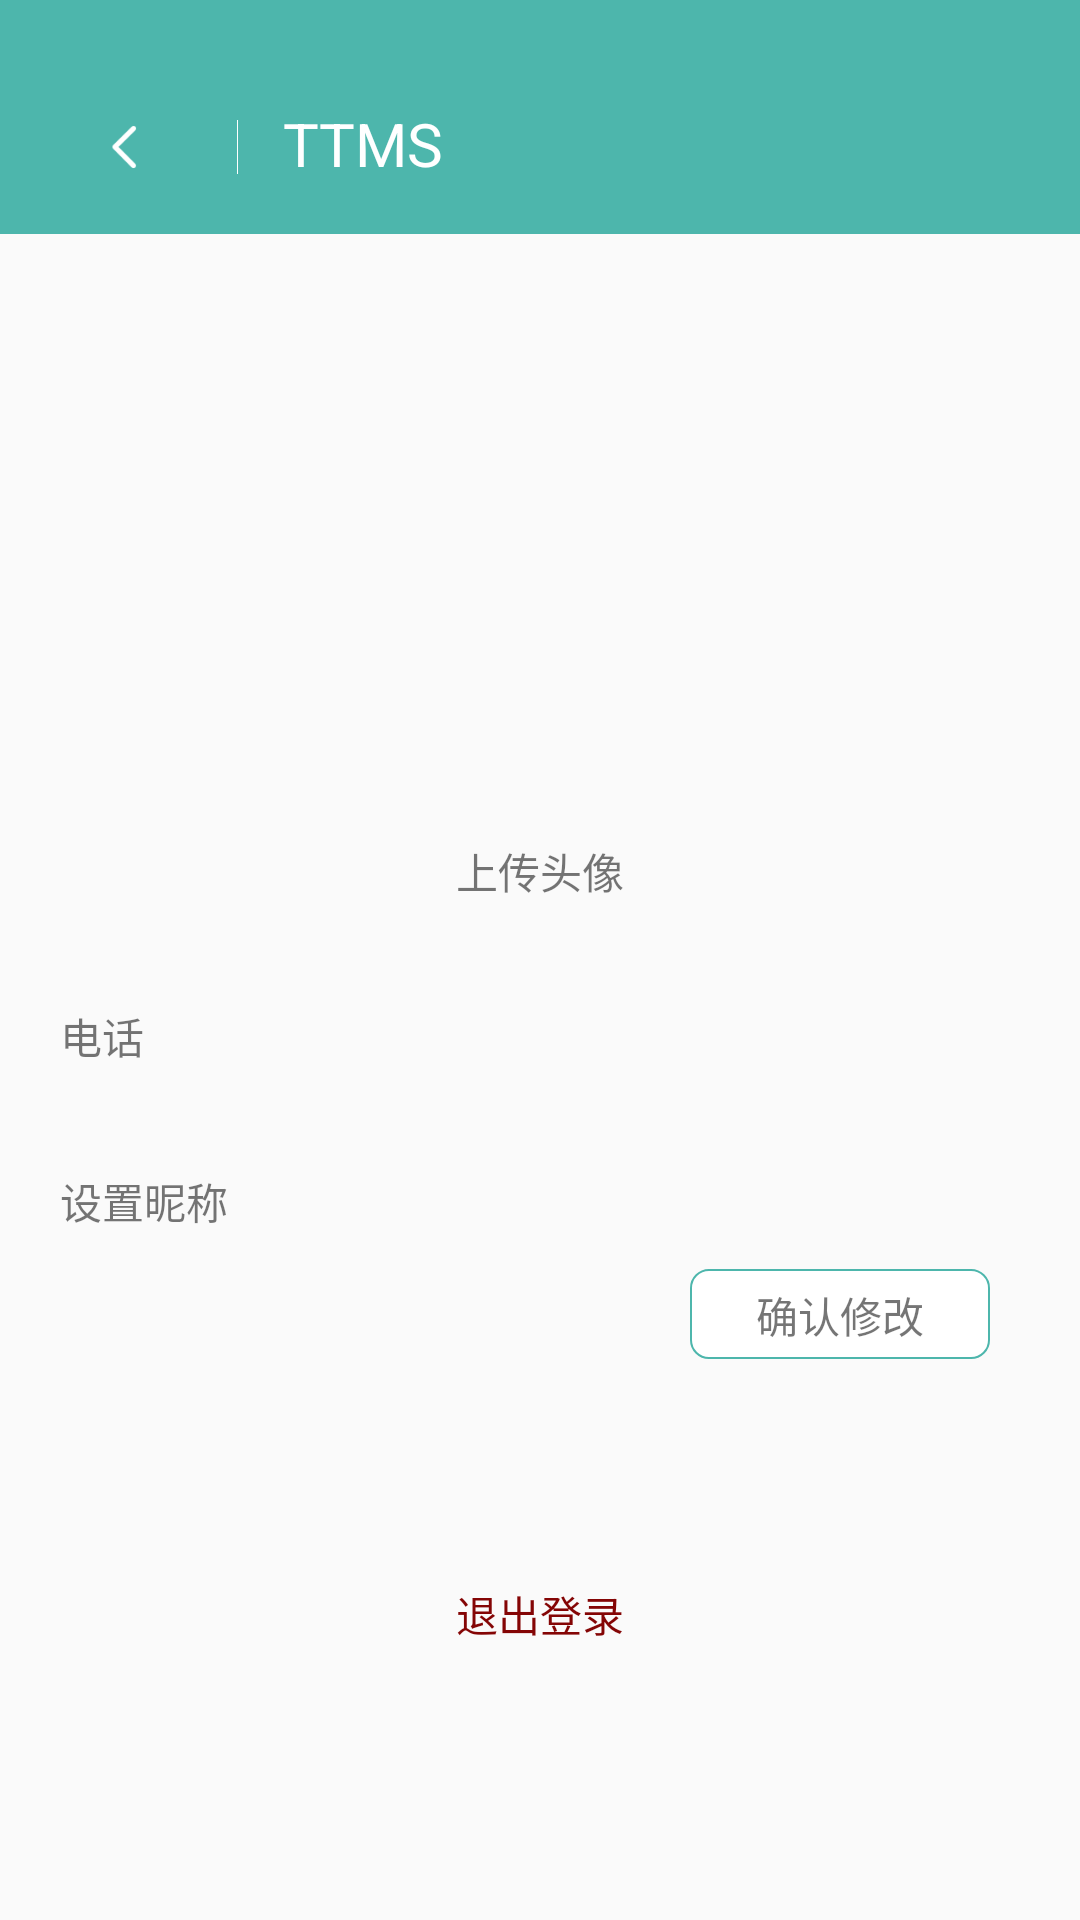

Where to tap for icons on this 1080 x 1920 app screen, as (x,y):
back: (124,147)
